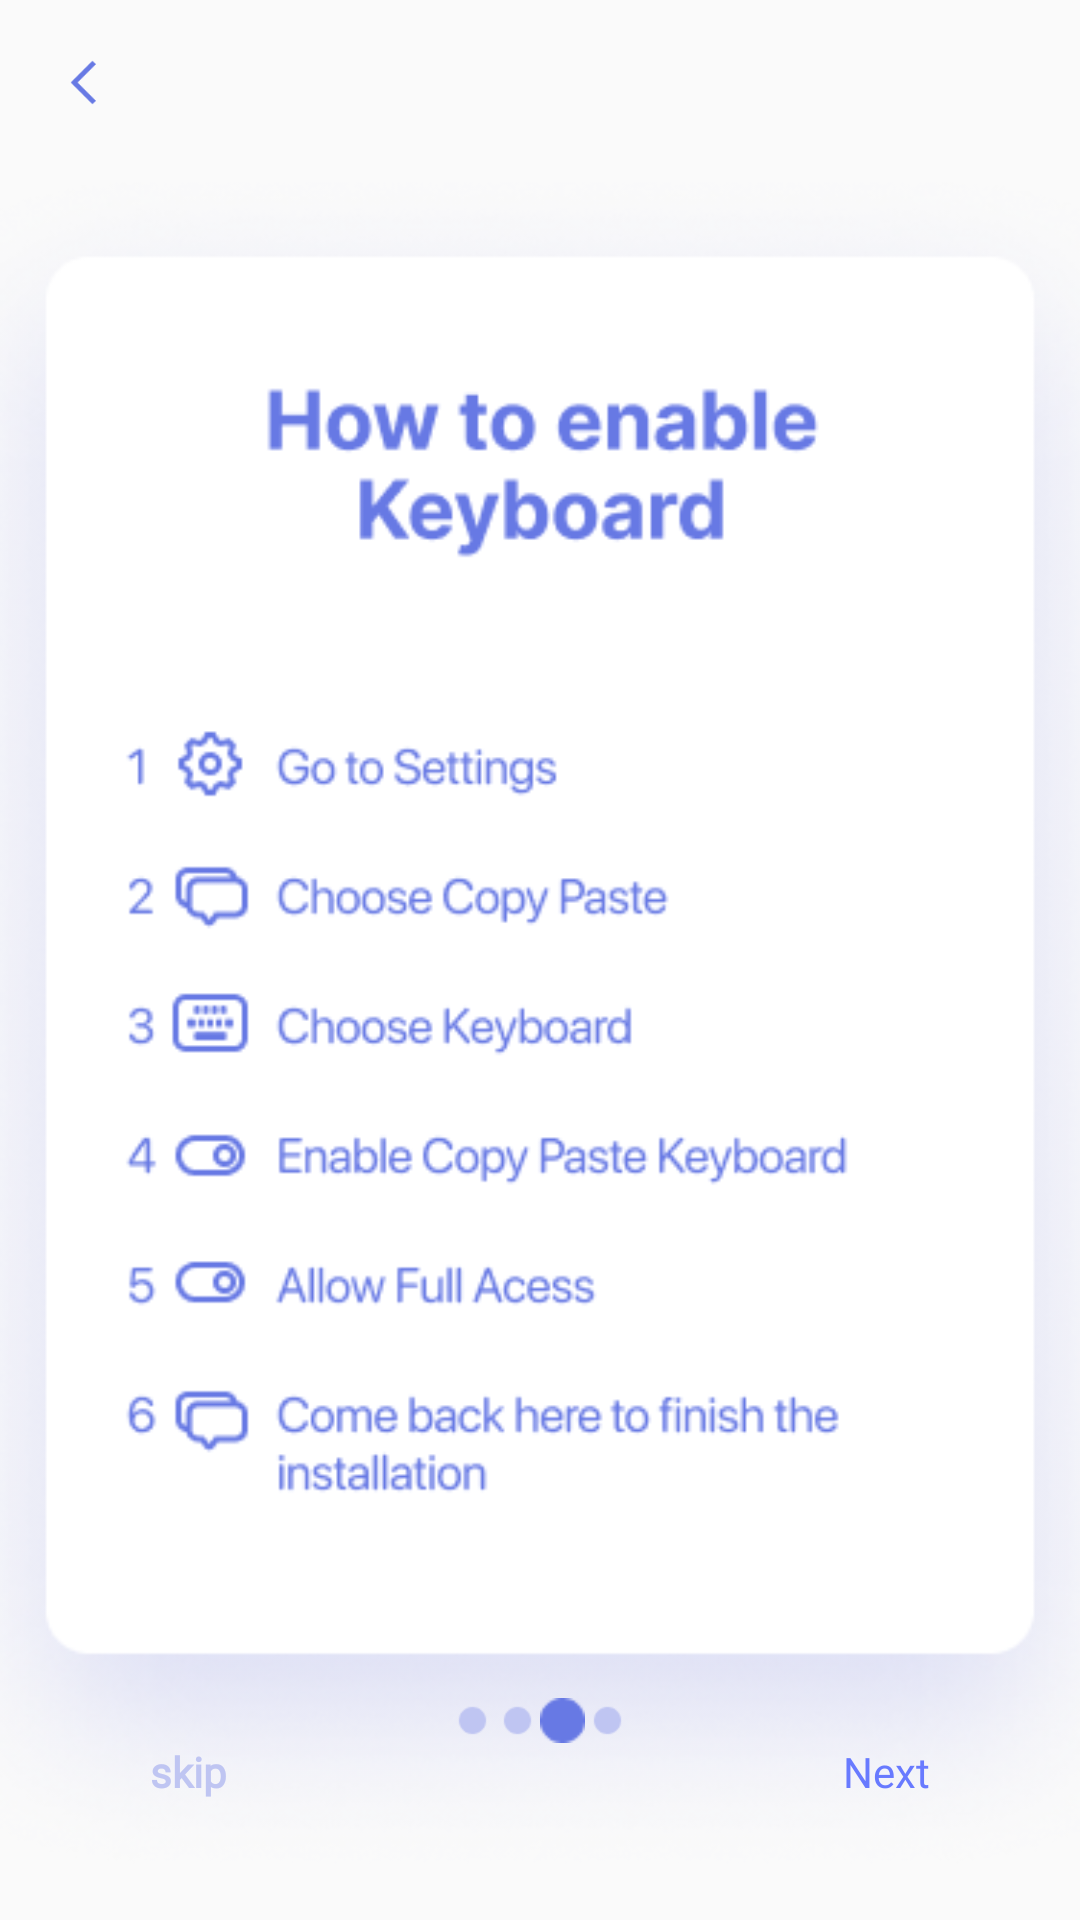

Screen size 1080 × 1920. Icon name, then its box in pixels as bbox=[x1, y1, x2, y2]:
back: bbox=[71, 61, 96, 104]
